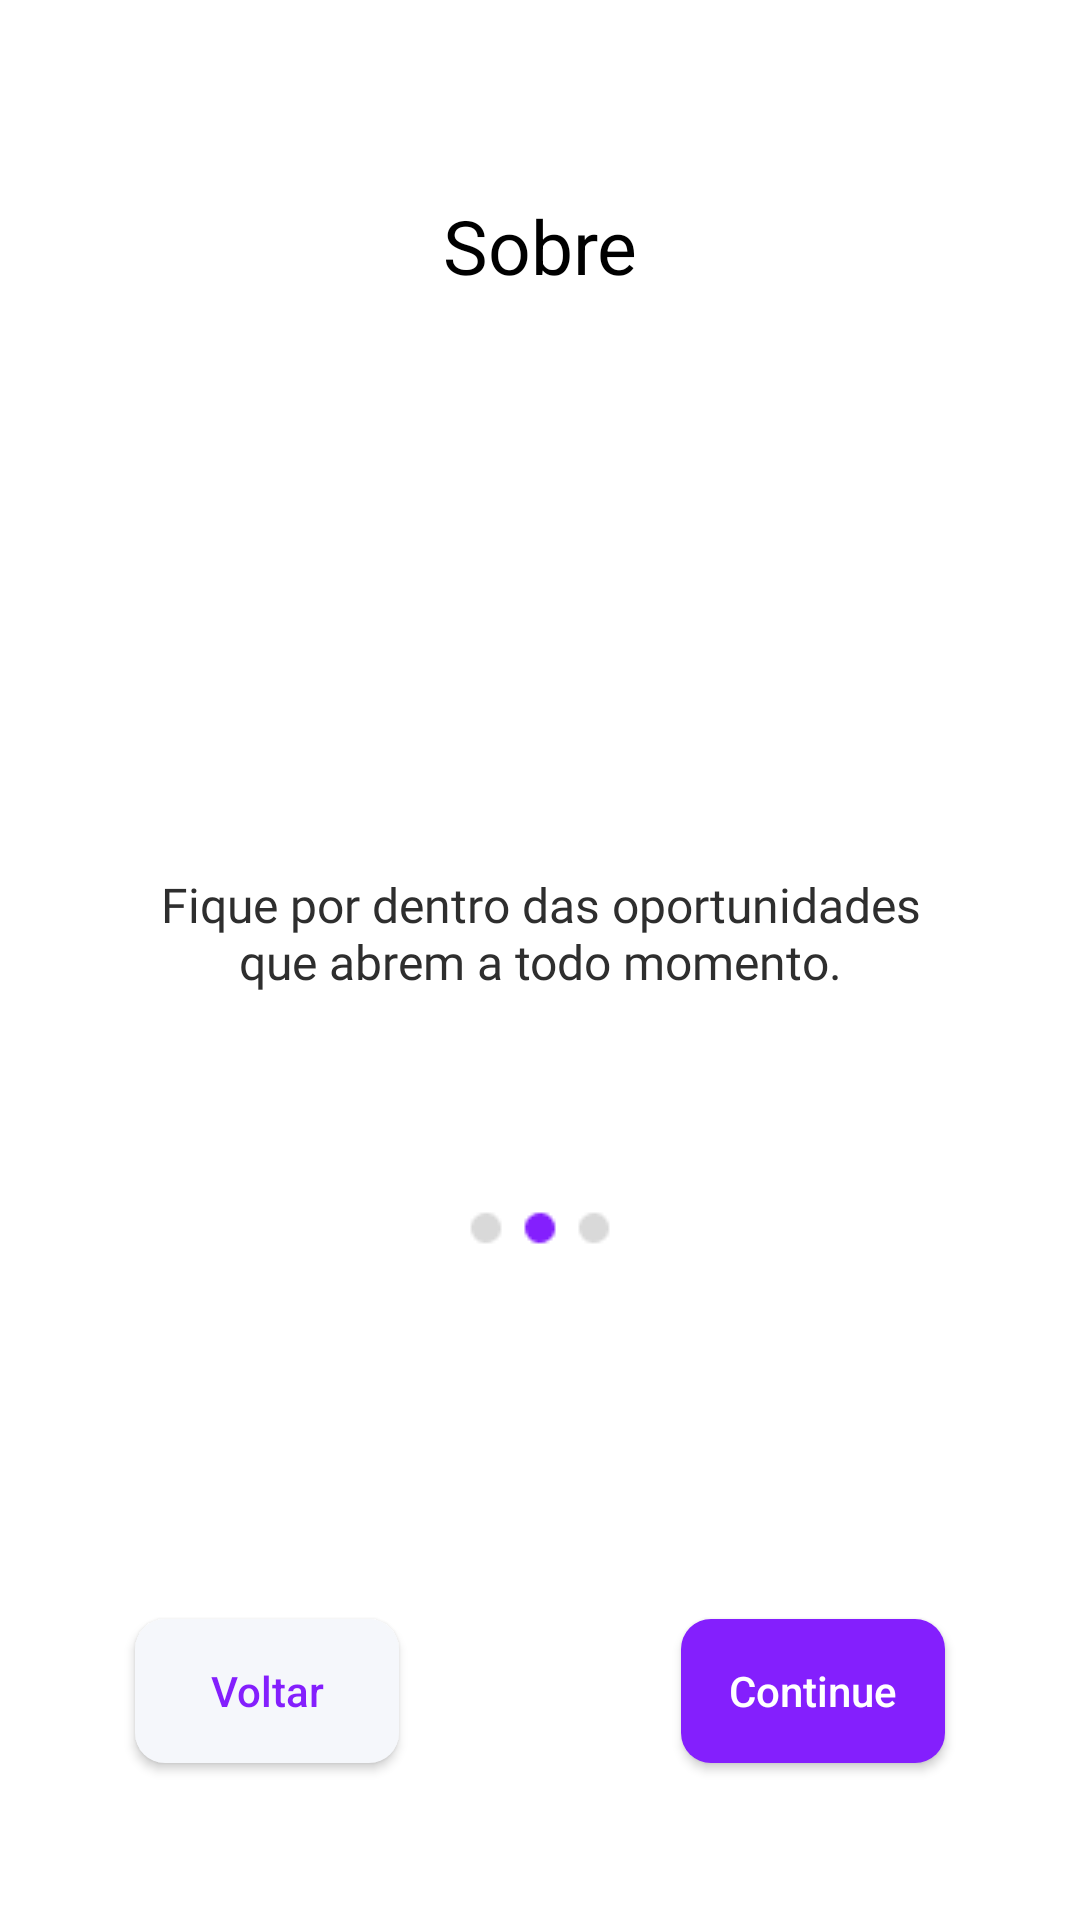

Icon click points for this 1080*1920 phone screenshot, format (x=x, y=y):
ponto: (x=540, y=1228)
